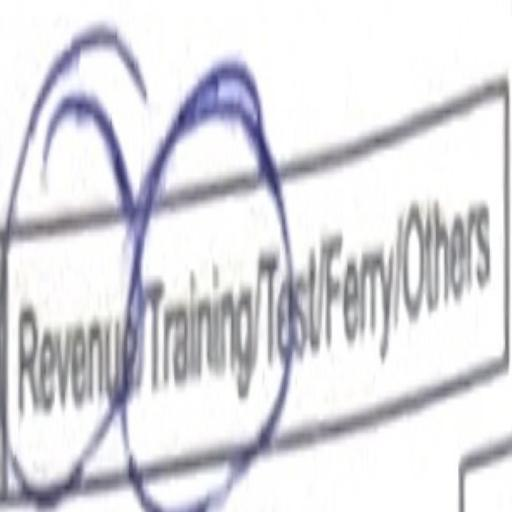check: (1, 39, 138, 512), (143, 22, 266, 512)
